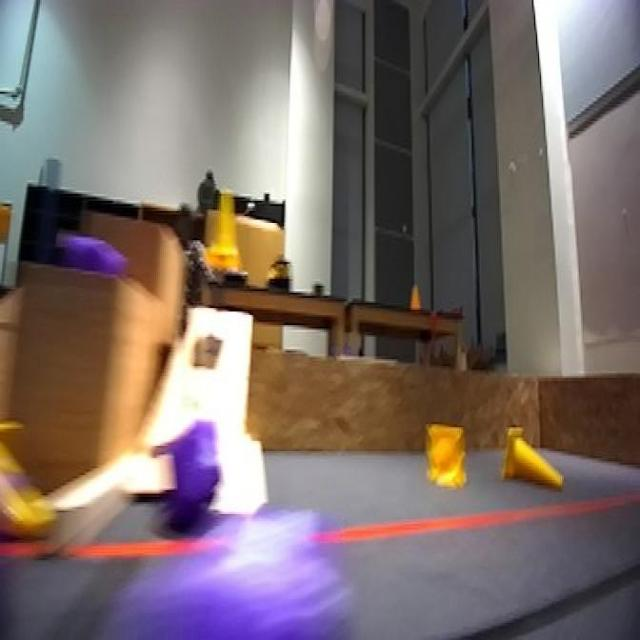frc_cone: (0, 412, 53, 545), (500, 416, 573, 500), (204, 185, 246, 278), (0, 182, 30, 269), (424, 424, 466, 485)
frc_cube: (118, 454, 338, 640), (160, 402, 223, 536), (56, 225, 116, 291)
